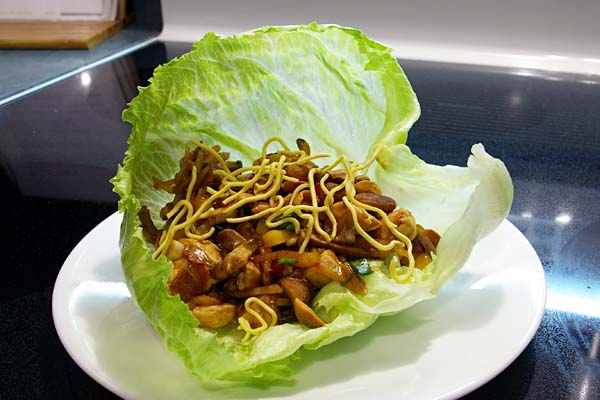chopped lettuce: (121, 26, 400, 150), (134, 288, 434, 368), (373, 141, 515, 238)
